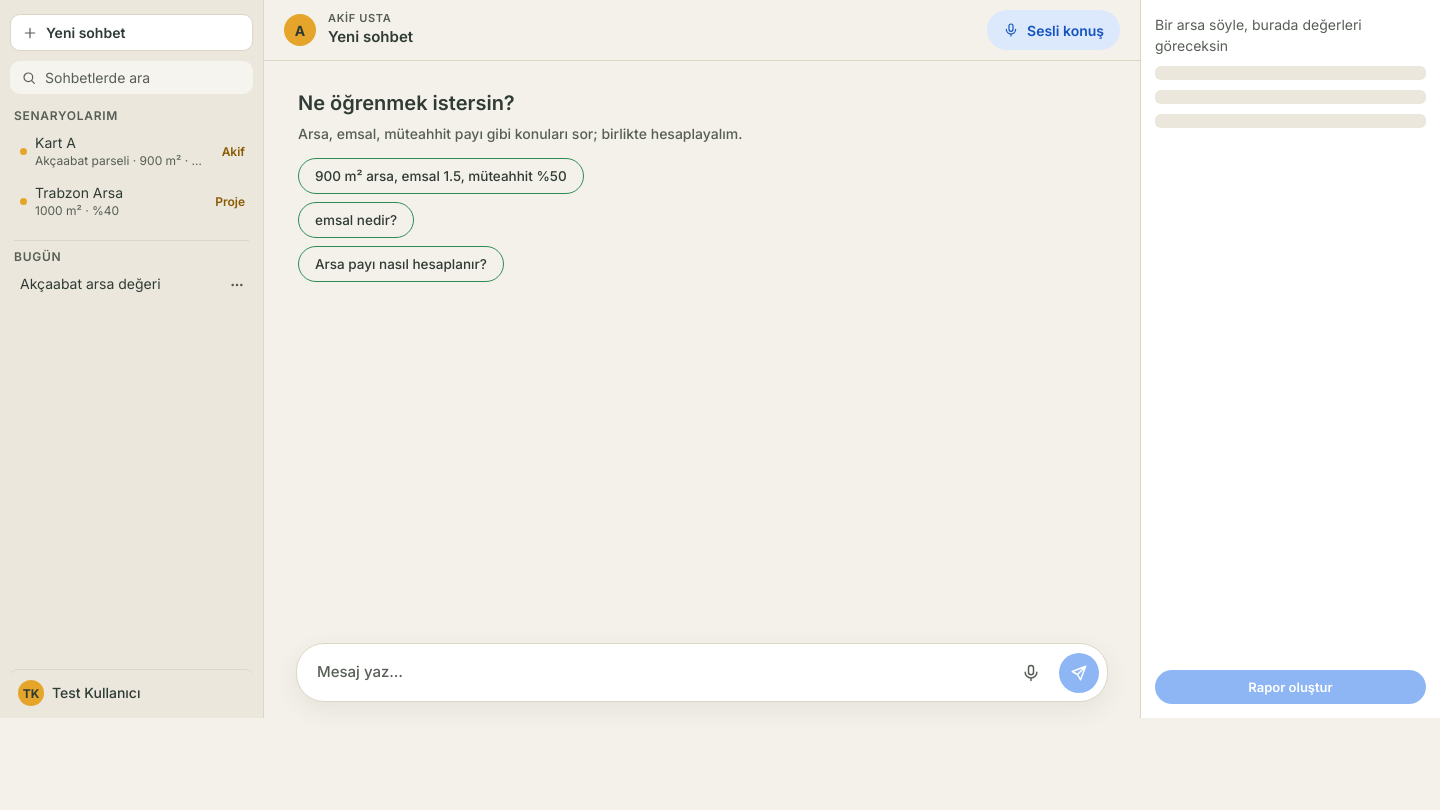
Test: sohbete tıklayınca mesajlar yüklenir; panel son değerleri gösterir ve vurgu YOK
Click the button "Akçaabat arsa değeri".
click(116, 285)  # box [10,268,223,301]
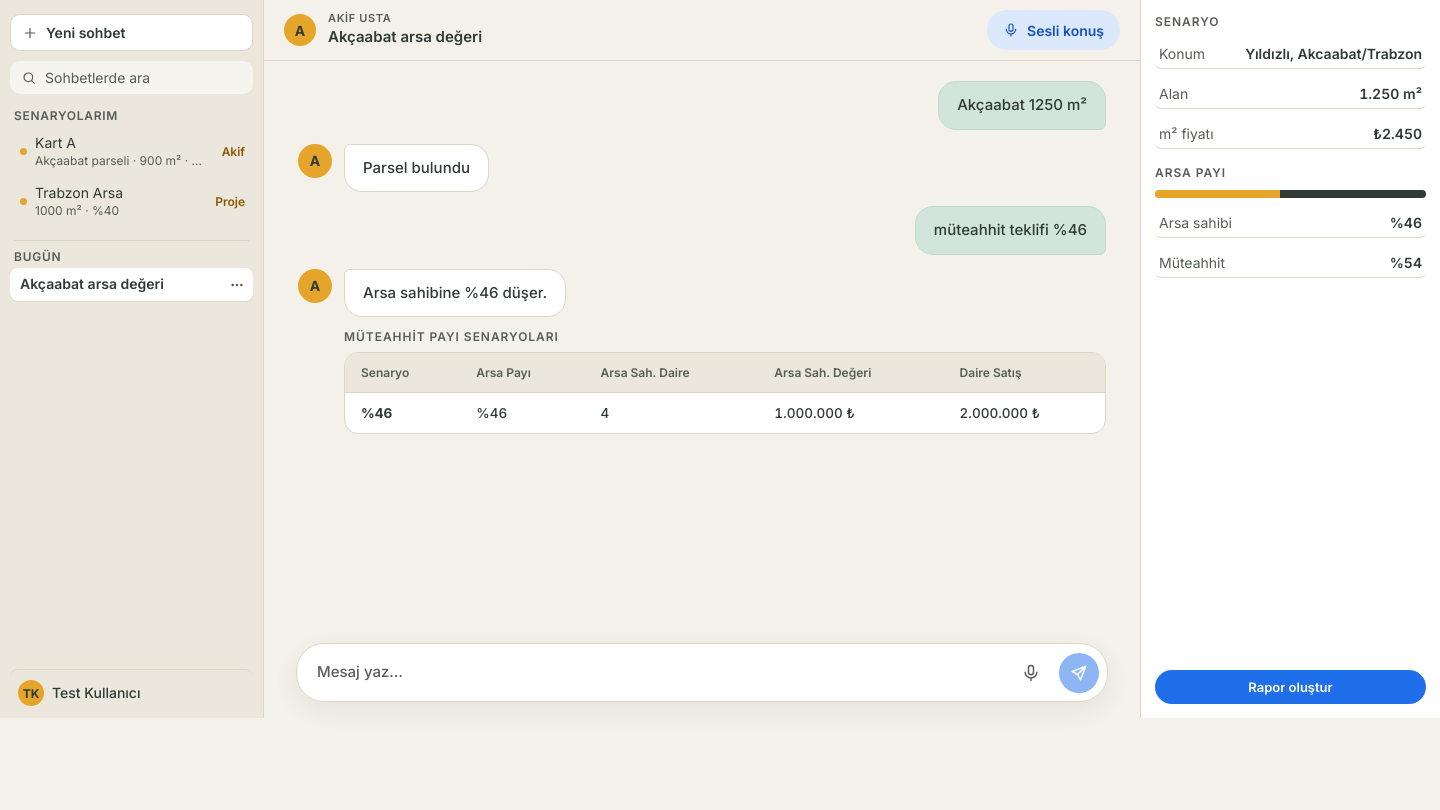
Expected: the text "Arsa sahibine %46 düşer." is shown, [344,268,566,317]
Expected: the text "Akçaabat 1250 m²" is shown, [938,81,1106,130]
Expected: the text "%46" is shown, [1390,214,1422,231]
